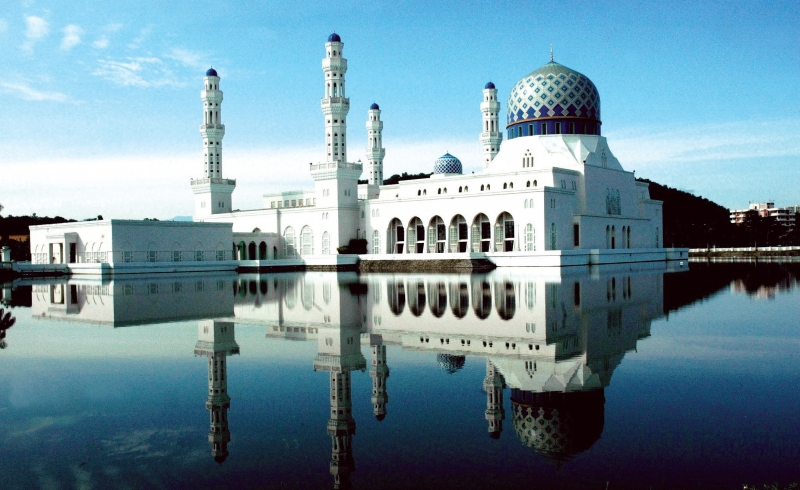Mosque: (184, 26, 618, 272)
